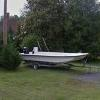Boat: (19, 40, 91, 69)
